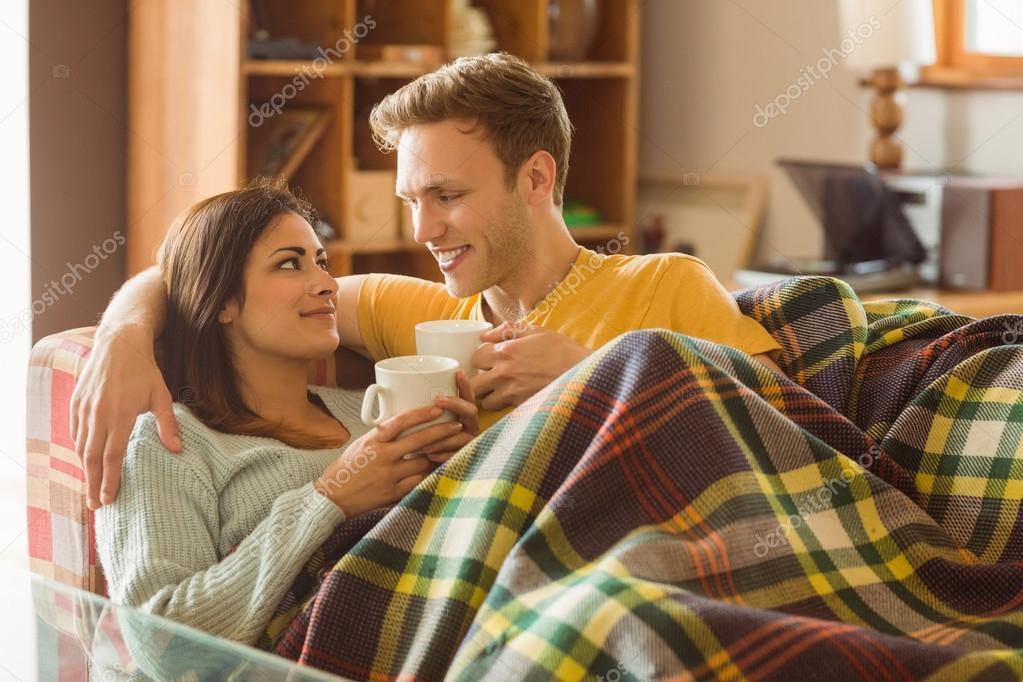blanket: (227, 269, 1022, 682)
short sleeve shirt: (352, 244, 792, 465)
sweater: (86, 376, 397, 682)
